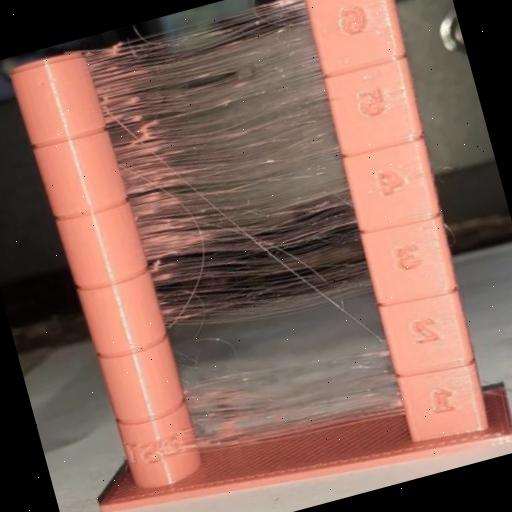stringing: (82, 0, 387, 346), (173, 324, 422, 468)
